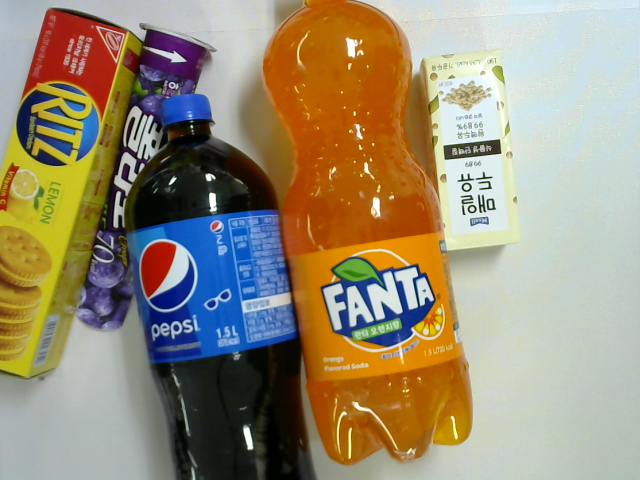99.89_Soymilk: (410, 44, 535, 257)
Hwanta_Orange_1.5L: (256, 1, 478, 467)
Pepsi_Cola_1.5L: (119, 93, 325, 480)
Polapo_Grape: (75, 15, 222, 340)
Ritz_Remon_96g: (1, 5, 144, 388)
